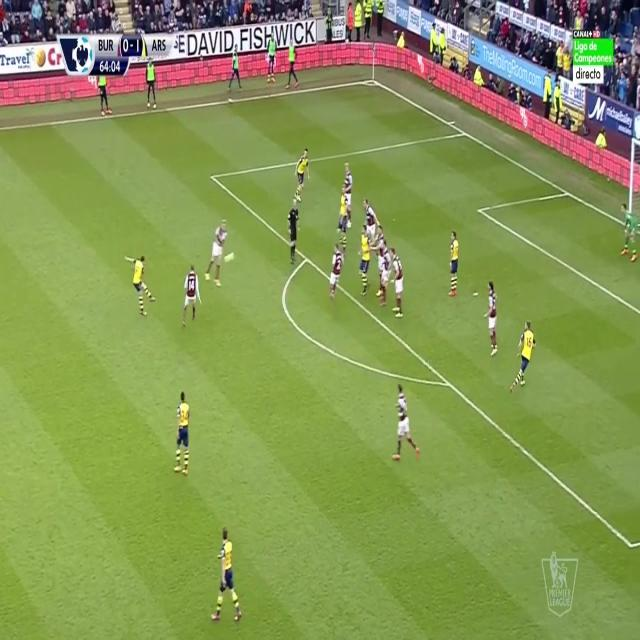Ball: (222, 250, 236, 266)
Goalkeeper: (618, 197, 640, 264)
Player: (210, 525, 244, 627), (391, 381, 422, 465), (507, 319, 538, 394), (124, 250, 156, 316), (202, 217, 229, 287), (171, 390, 191, 478), (179, 260, 203, 330), (482, 279, 500, 357), (294, 146, 312, 206), (358, 224, 372, 298), (447, 229, 460, 301), (392, 249, 404, 322), (328, 246, 343, 300), (337, 188, 348, 259), (380, 238, 390, 310), (344, 161, 354, 229), (362, 194, 377, 236), (372, 222, 384, 268)
Referee: (287, 200, 301, 264)
